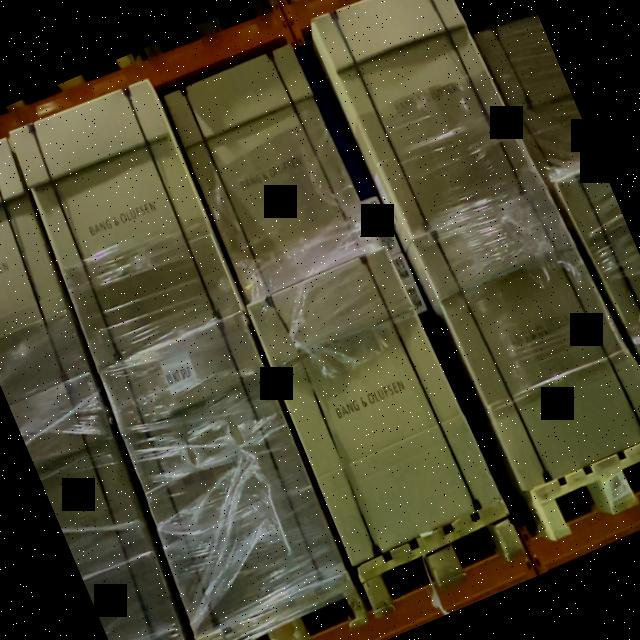box: (247, 249, 501, 566), (102, 312, 347, 640), (413, 188, 640, 492), (10, 80, 241, 369), (163, 43, 381, 306), (313, 0, 547, 236)
